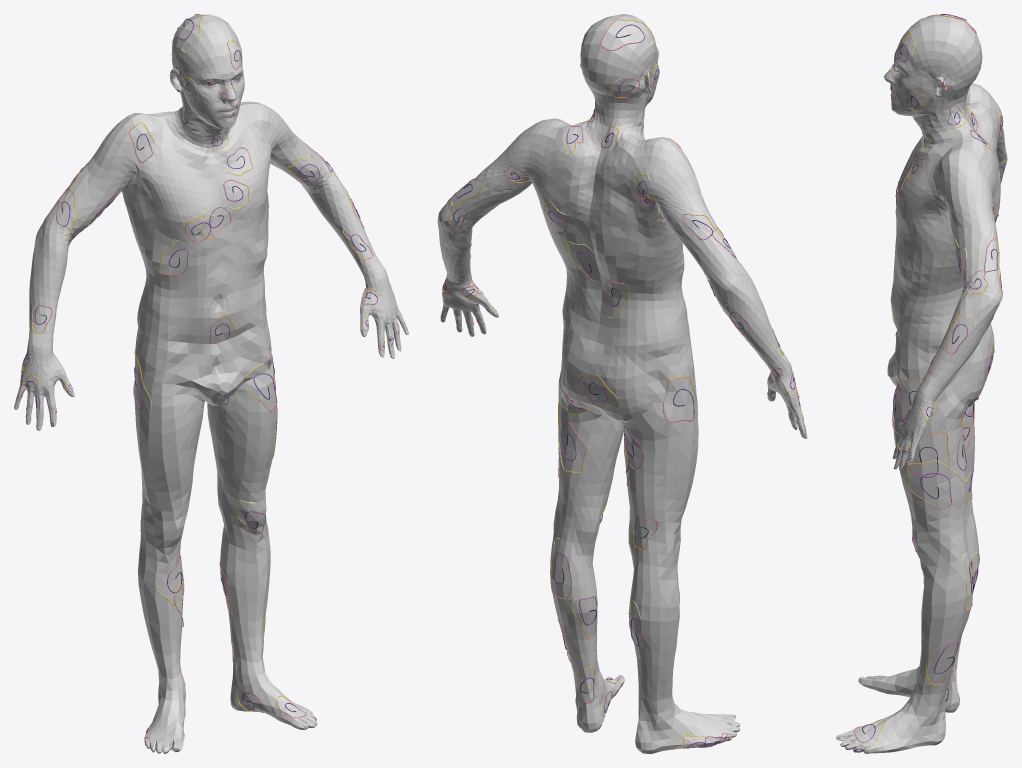
Rendered from body_ours_l2_spiral_repositioned.glb.
The picture shows the model from 3 angles, left to right: view 1: azimuth 30°, elevation 25°; view 2: azimuth 150°, elevation 25°; view 3: azimuth 270°, elevation 25°; orthographic projection. The views are drawn at different scales.
Parts seen in each view (by area): view 1: imagetostl_mesh0; view 2: imagetostl_mesh0; view 3: imagetostl_mesh0.
Boxes of the visible parts, x1,y1,x2,y2 form: imagetostl_mesh0: (14, 14, 408, 753); imagetostl_mesh0: (437, 14, 807, 753); imagetostl_mesh0: (836, 14, 1007, 753).
Bounding box in the file's own units: 1 × 1.79 × 0.3908.
